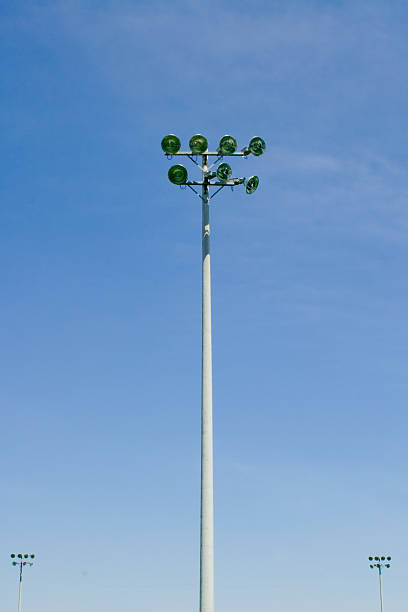light_pole: (198, 211, 216, 612)
